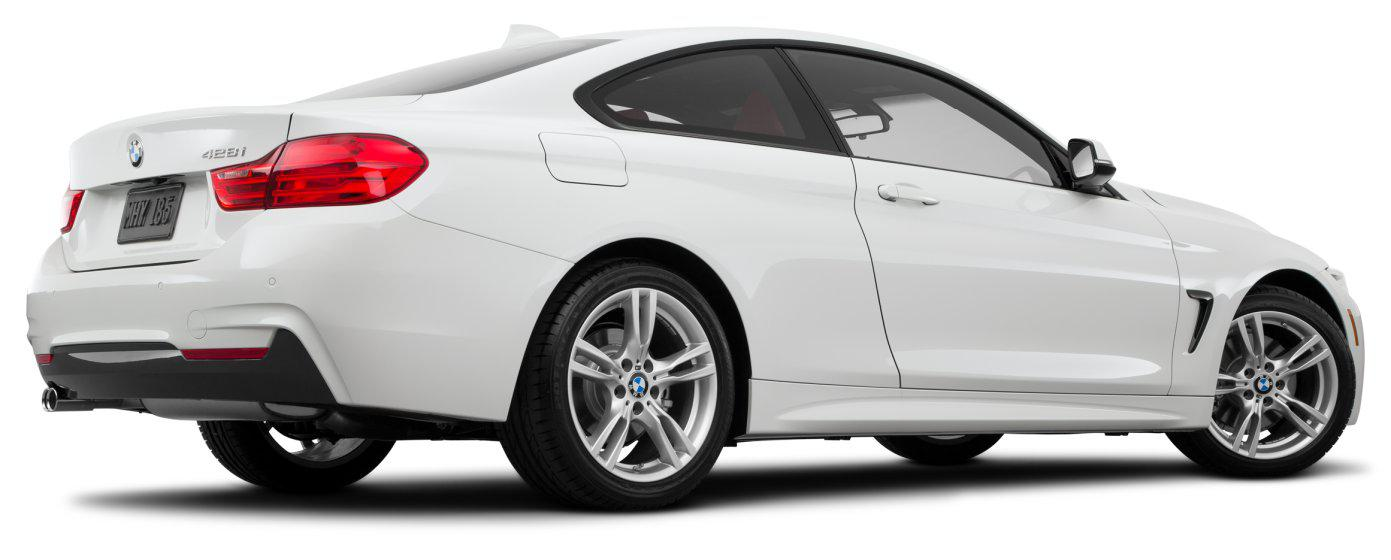bmw: (20, 16, 1377, 533)
